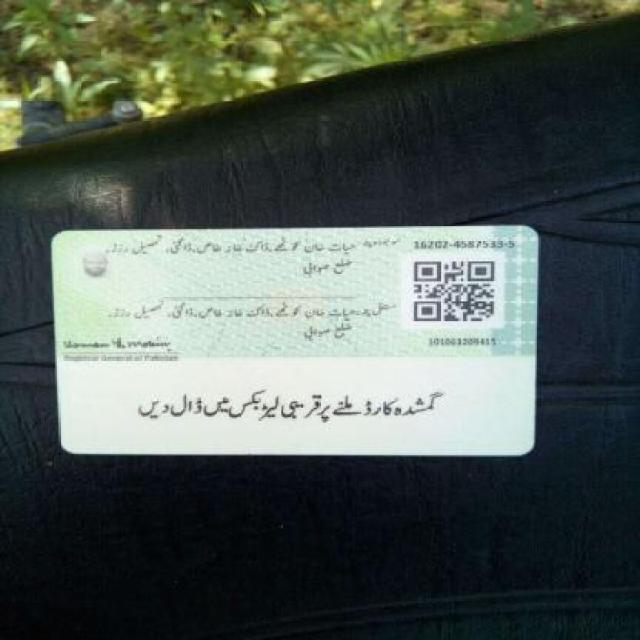Back: (43, 218, 539, 462)
